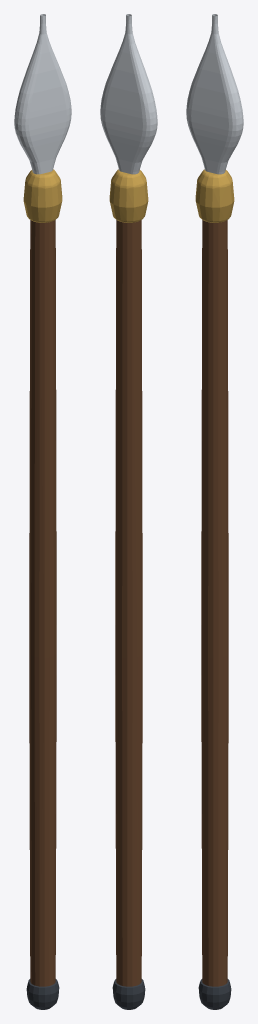
Rendered from PropSpear.obj.
The picture shows the model from 3 angles, left to right: view 1: azimuth 30°, elevation 25°; view 2: azimuth 150°, elevation 25°; view 3: azimuth 330°, elevation 25°; orthographic projection.
Size of the model in its own units: 0.322 by 5.55 by 0.2.
